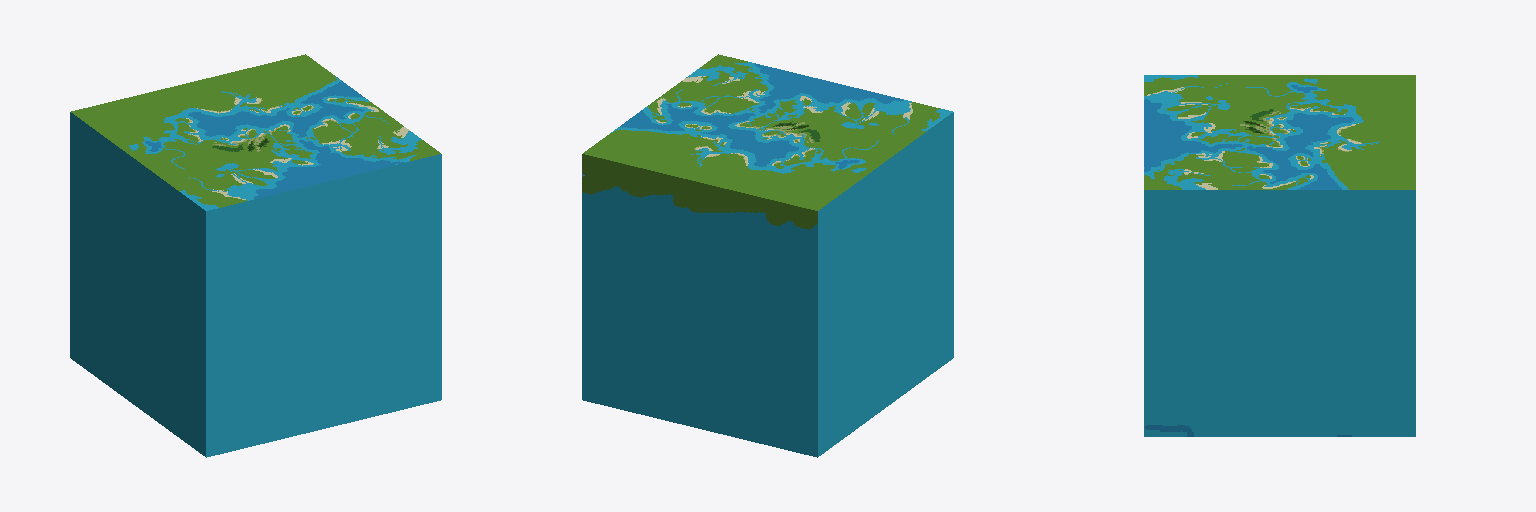
3 views of the same model, side by side, from view 1: azimuth 30°, elevation 25°; view 2: azimuth 150°, elevation 25°; view 3: azimuth 270°, elevation 25° (orthographic).
Parts seen in each view (by area): view 1: cube; view 2: cube; view 3: cube.
Boxes of the visible parts, x1=… form: cube: x1=70, y1=54, x2=441, y2=457; cube: x1=582, y1=54, x2=953, y2=457; cube: x1=1144, y1=75, x2=1415, y2=436.
Size of the model in its own units: 3 by 3 by 3.
Materials: 1 (1 with a texture image).